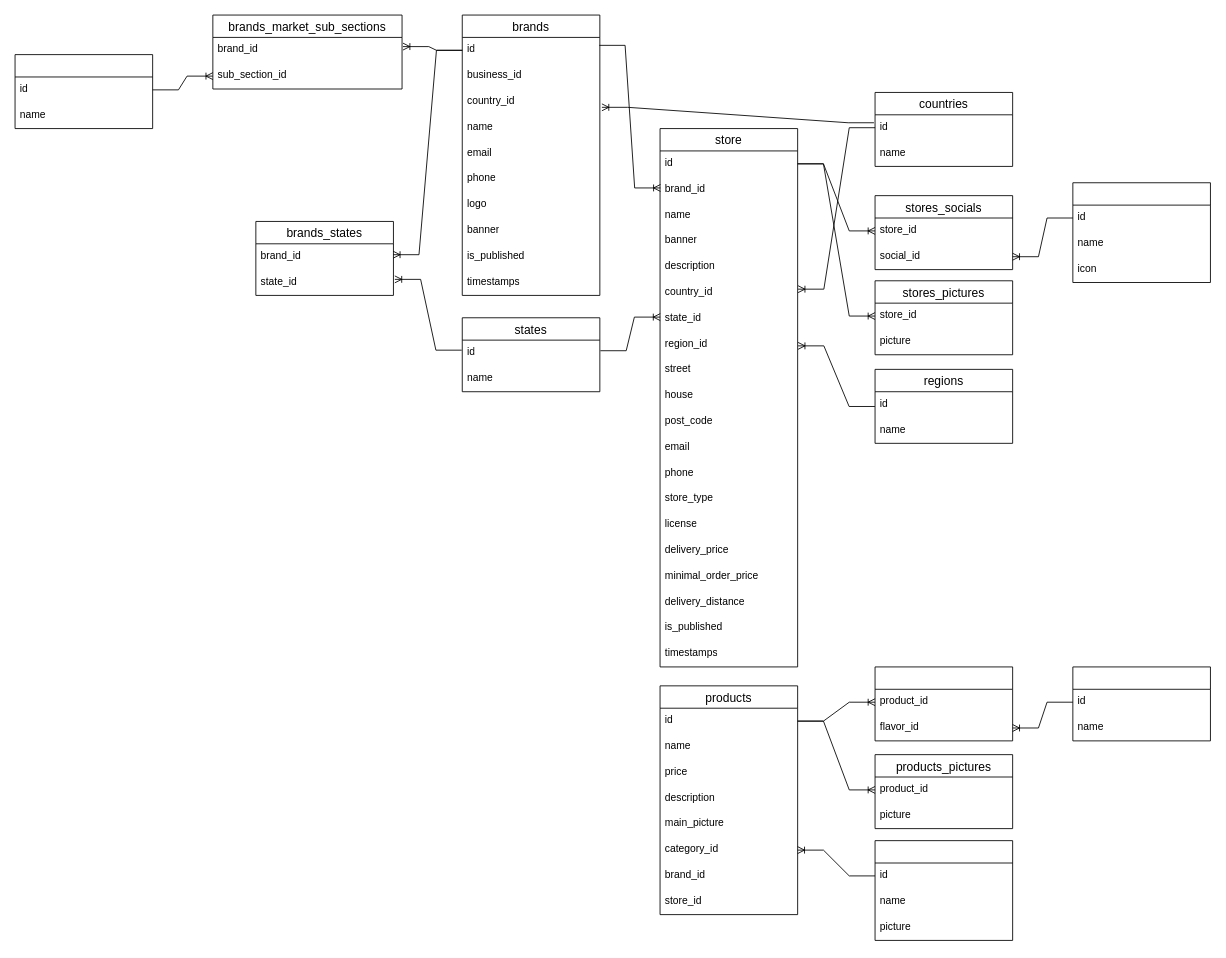
This 1226x958 diagram has some shape labels left out. Here are the shapes that lost their labels. From the top down, the box of each, then its label:
(14, 54, 153, 129): market_sections
(1072, 182, 1210, 283): socials
(874, 666, 1013, 741): products_flavors
(1072, 666, 1210, 741): flavors
(874, 840, 1013, 940): product_categories
